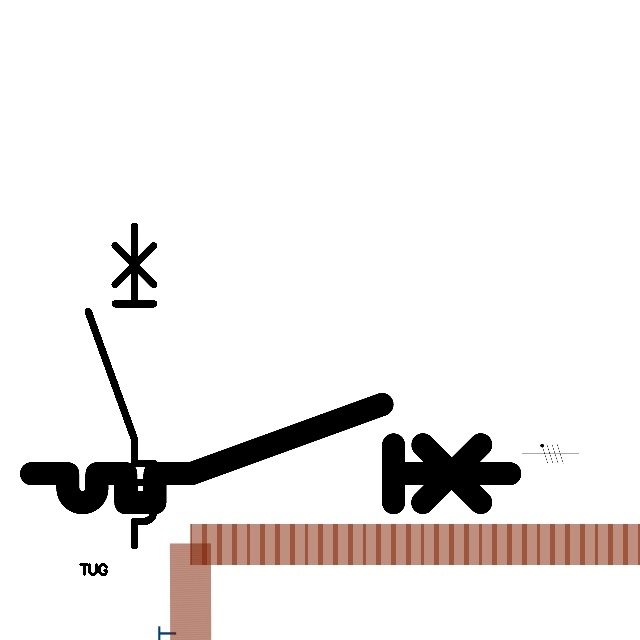interruptor_termomagnetico: (19, 392, 522, 515), (80, 218, 162, 554)
